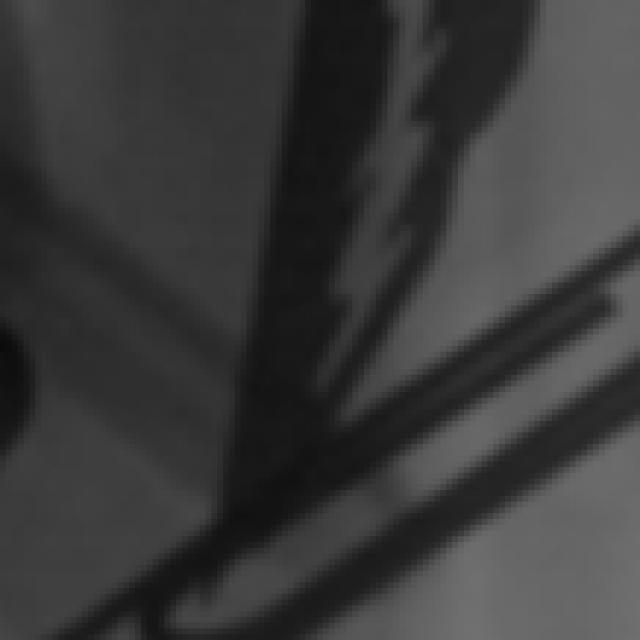GUN: (159, 1, 559, 601)
